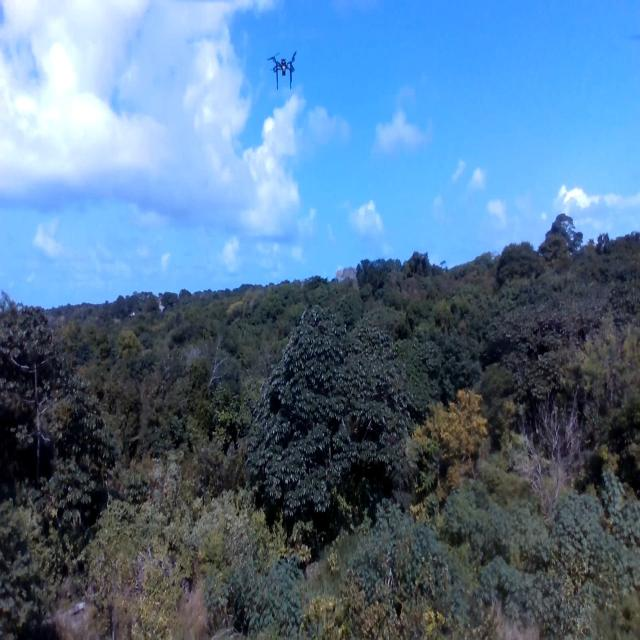-uav-: (264, 41, 303, 99)
